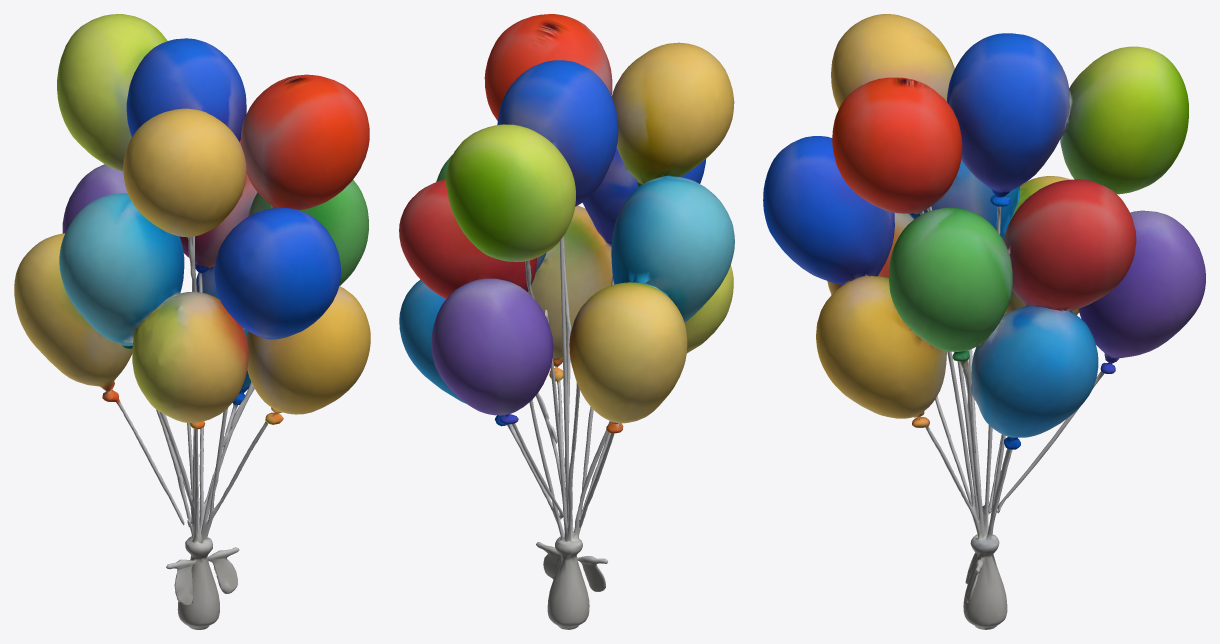
Rendered from prop-balloon-cluster.glb.
The picture shows the model from 3 angles, left to right: view 1: azimuth 30°, elevation 25°; view 2: azimuth 150°, elevation 25°; view 3: azimuth 270°, elevation 25°; orthographic projection. The views are drawn at different scales.
Parts seen in each view (by area): view 1: tripo_node_c7559399-1cc0-49f8-a0e2-4df69ed9046b; view 2: tripo_node_c7559399-1cc0-49f8-a0e2-4df69ed9046b; view 3: tripo_node_c7559399-1cc0-49f8-a0e2-4df69ed9046b.
Boxes of the visible parts, left/top/right/bottom form: tripo_node_c7559399-1cc0-49f8-a0e2-4df69ed9046b: left=14, top=14, right=370, bottom=629; tripo_node_c7559399-1cc0-49f8-a0e2-4df69ed9046b: left=399, top=14, right=734, bottom=629; tripo_node_c7559399-1cc0-49f8-a0e2-4df69ed9046b: left=763, top=14, right=1205, bottom=629.
Bounding box in the file's own units: 0.795 × 1.5 × 1.03.
1 material, 1 textured.
